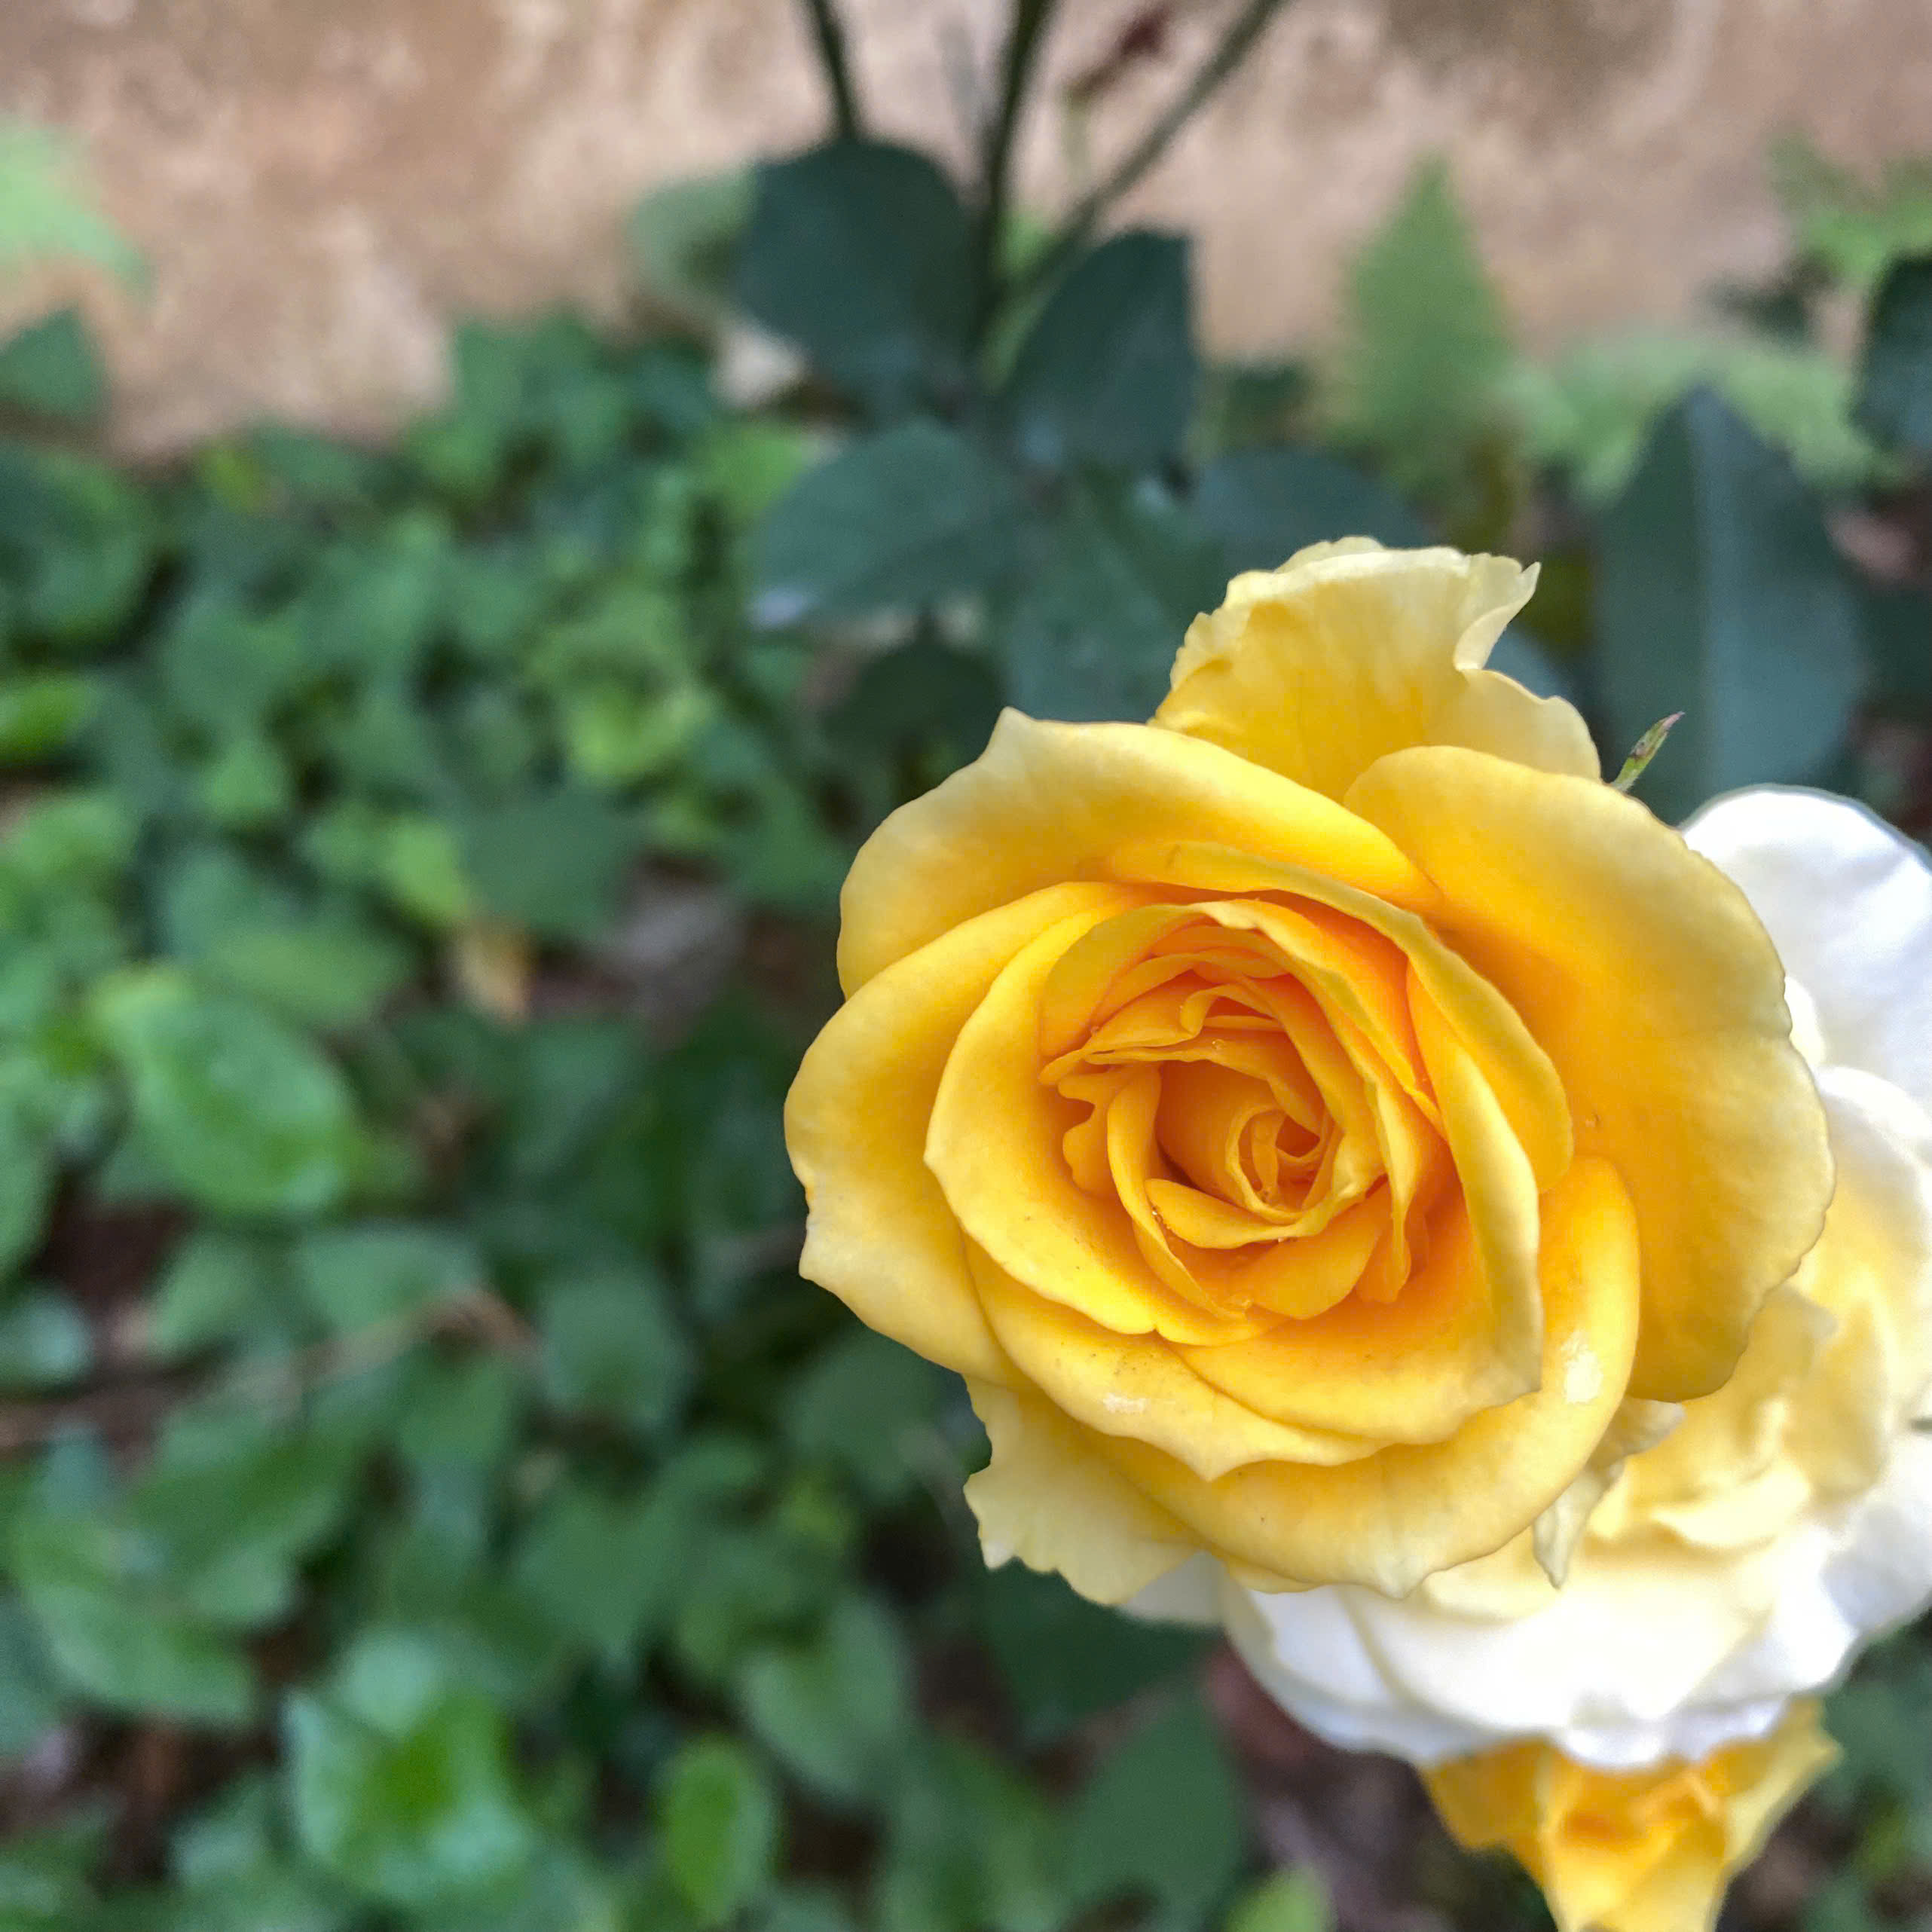hoa_thuoc_duoc: (747, 382, 1932, 1893)
